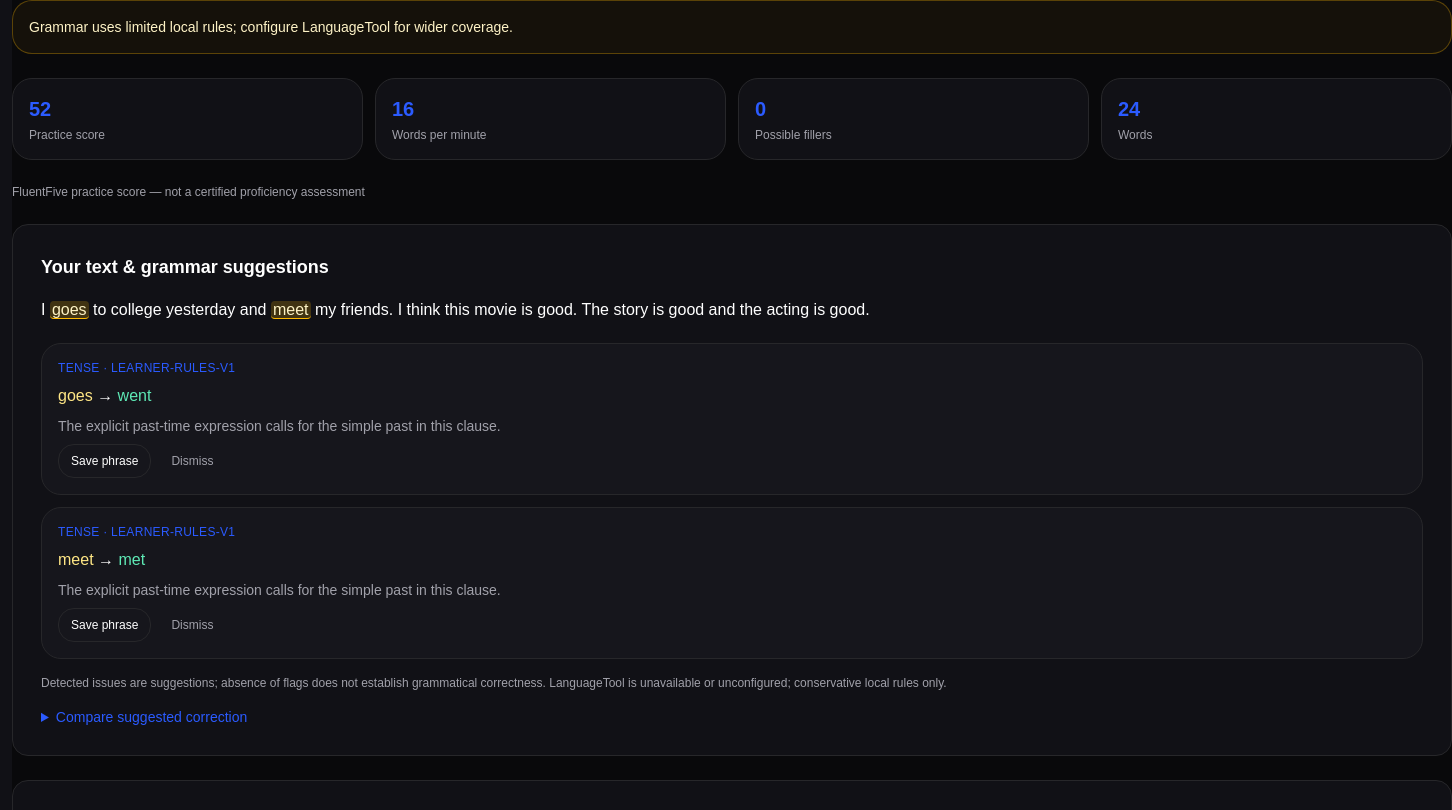
Test: analysis UI and learning signals › saves a recommendation and reports completion only after API success
Click the button "Save phrase" below "went".
click(105, 461)  # box [58,444,151,478]
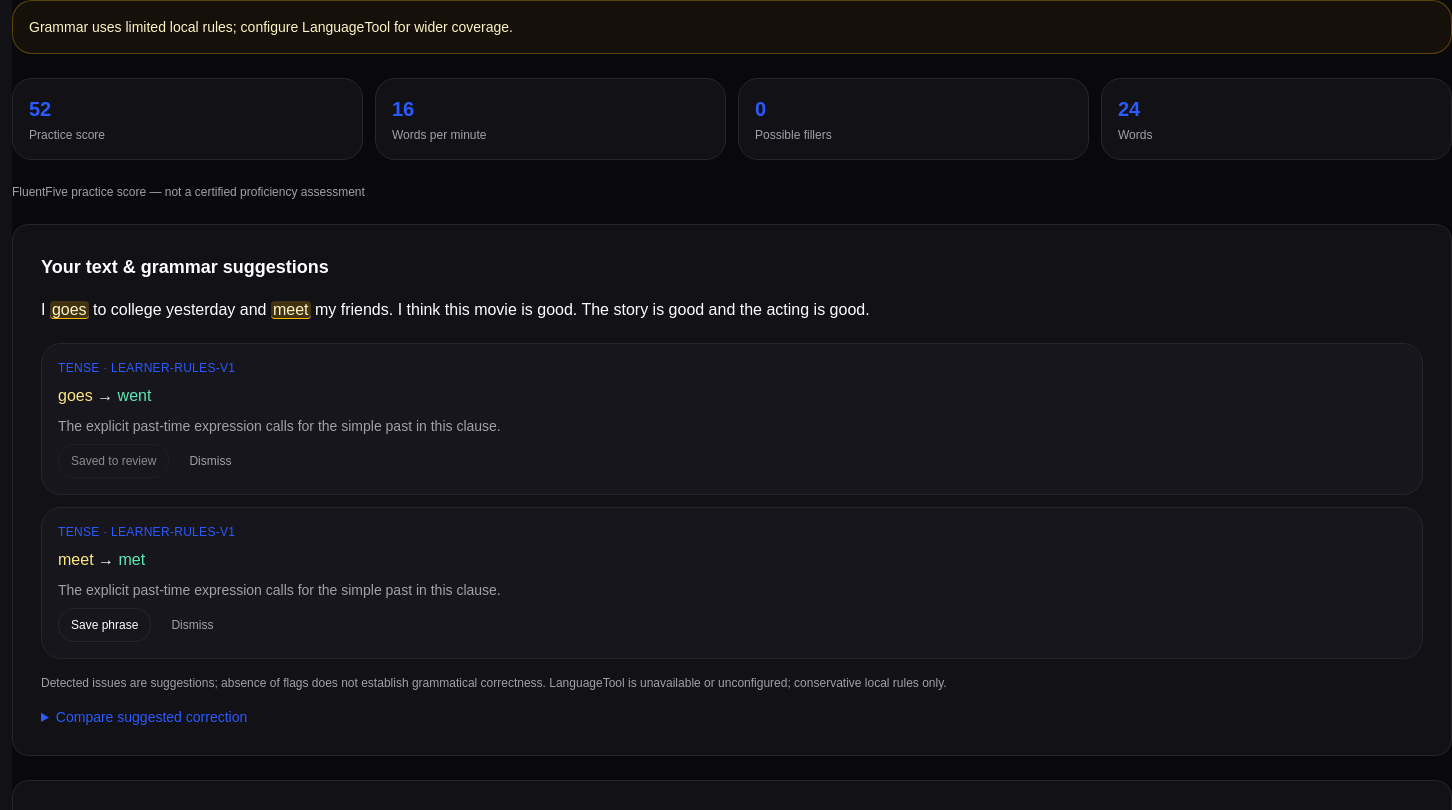
Result: the button "Saved to review" is shown at [58,444,169,478]
